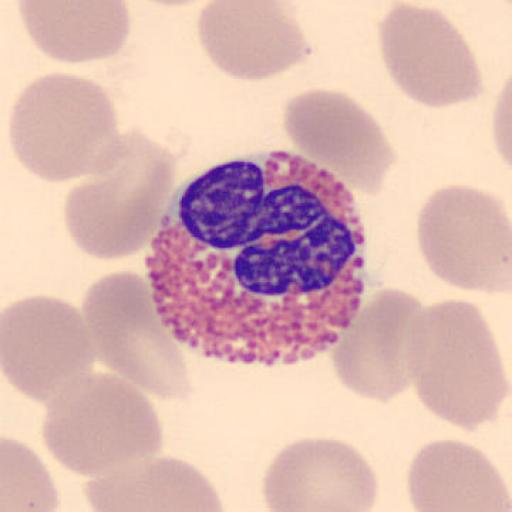RBC: (63, 128, 180, 260), (78, 266, 191, 400), (404, 296, 509, 433), (39, 370, 164, 480), (8, 70, 123, 184), (282, 89, 396, 197), (331, 285, 430, 403), (377, 4, 485, 110), (415, 181, 512, 294), (62, 164, 173, 261), (1, 293, 97, 402), (196, 0, 310, 82), (261, 436, 380, 512), (84, 454, 226, 512), (406, 437, 511, 512), (15, 0, 132, 66), (1, 436, 60, 512), (490, 73, 512, 171), (130, 0, 224, 7)
WBC: (145, 156, 371, 367)
